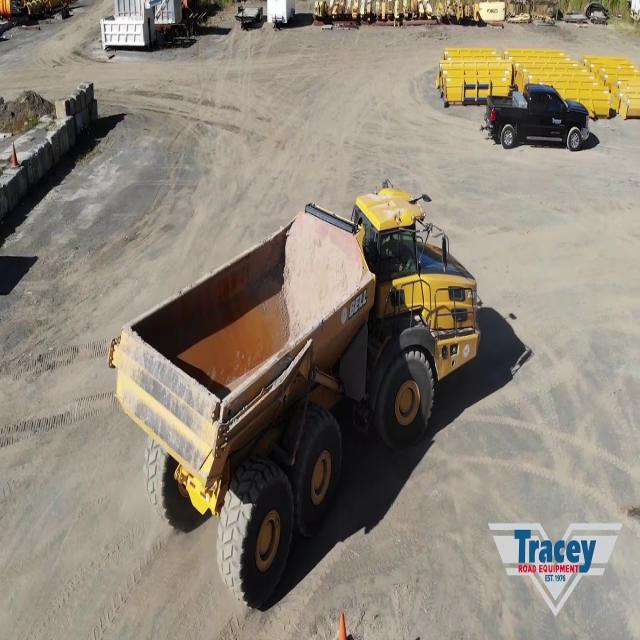dump_truck: (111, 182, 479, 566)
light_vehicle: (487, 73, 593, 162)
